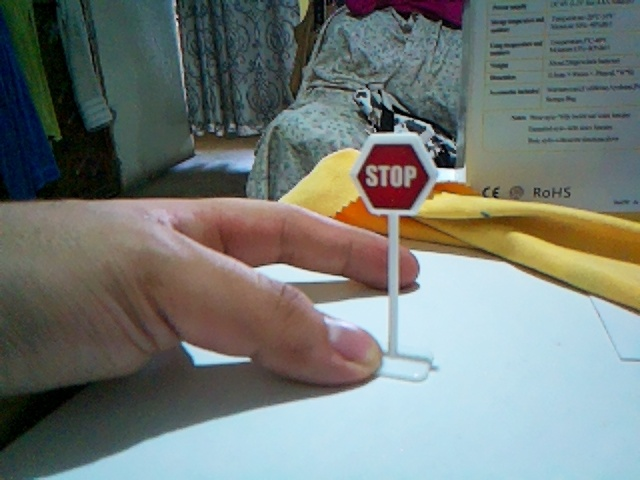stop_sign: (351, 133, 437, 214)
